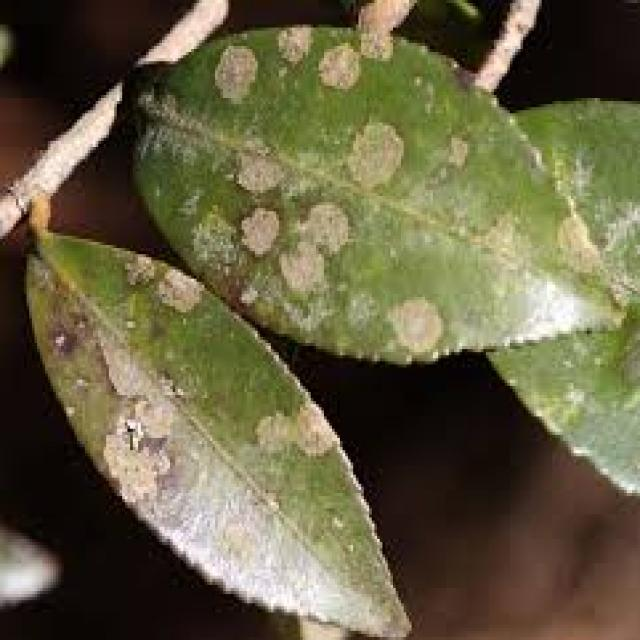leaf_spot: (120, 21, 636, 358), (19, 231, 430, 626)
